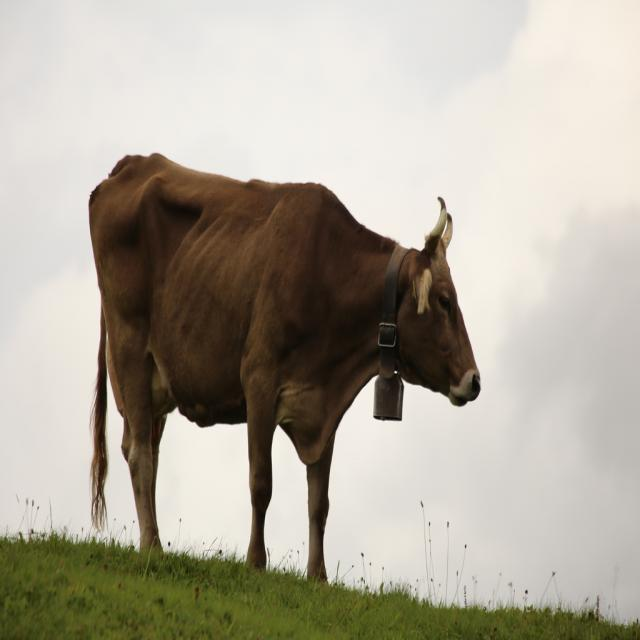Cattle: (88, 153, 481, 583)
